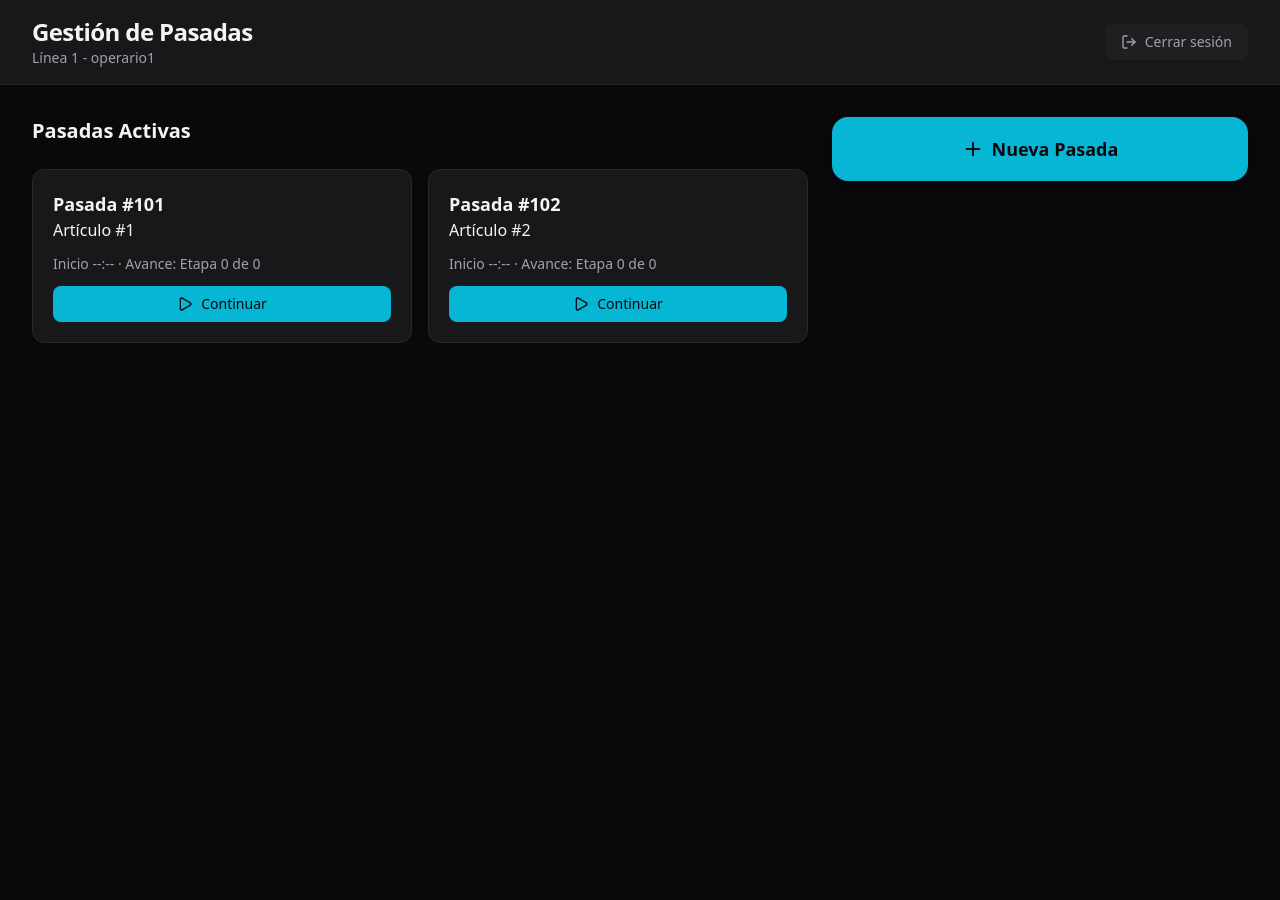
it: GestionPasadasPage › muestra el error 422 del backend en el cuadro de error existente del modal
Click the button "Nueva Pasada" at (1040, 149), box x1=832 y1=117 x2=1248 y2=181
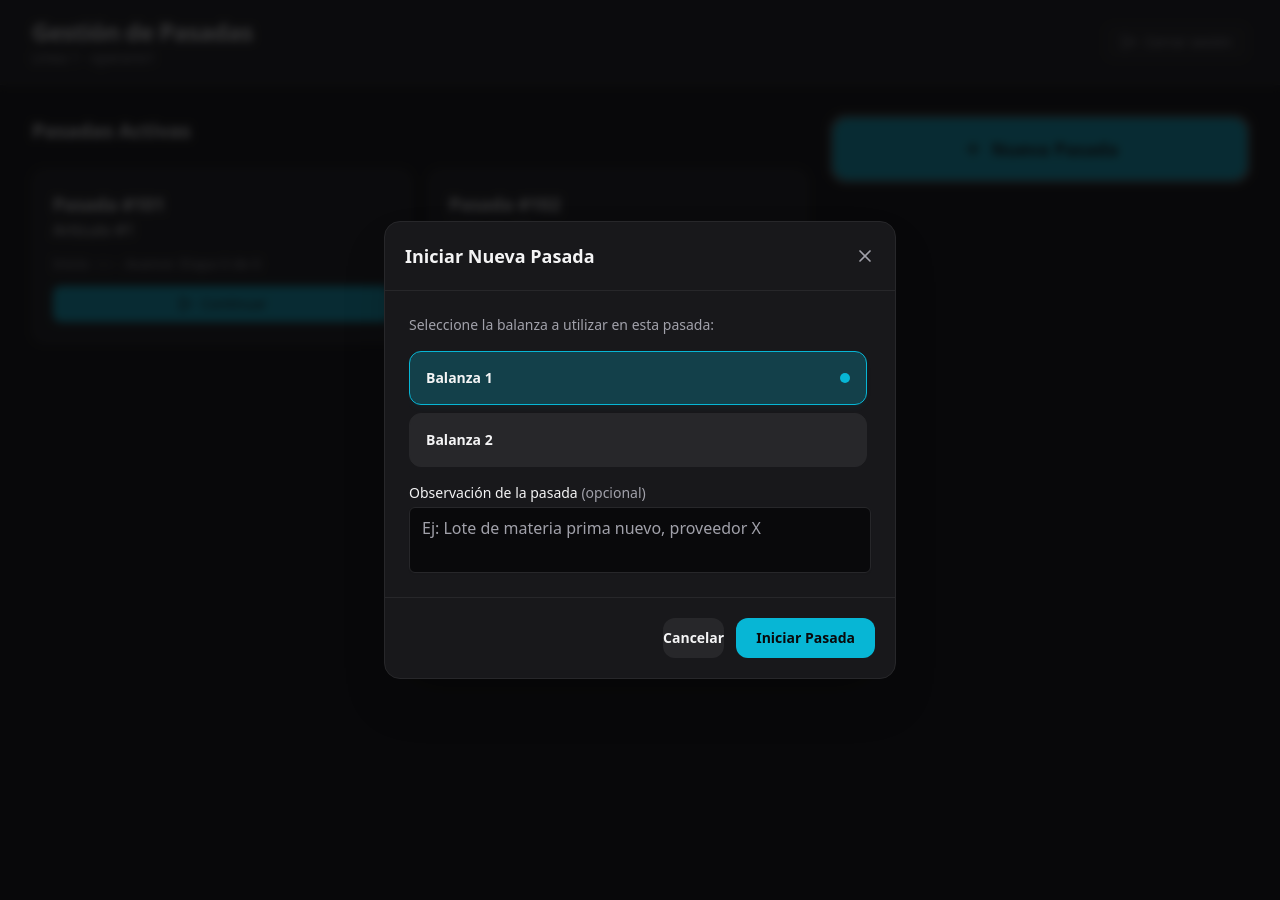
Now the heading "Iniciar Nueva Pasada" is shown, box x1=405 y1=242 x2=595 y2=270
Click the button "Iniciar Pasada" at (806, 638), box x1=736 y1=618 x2=875 y2=658
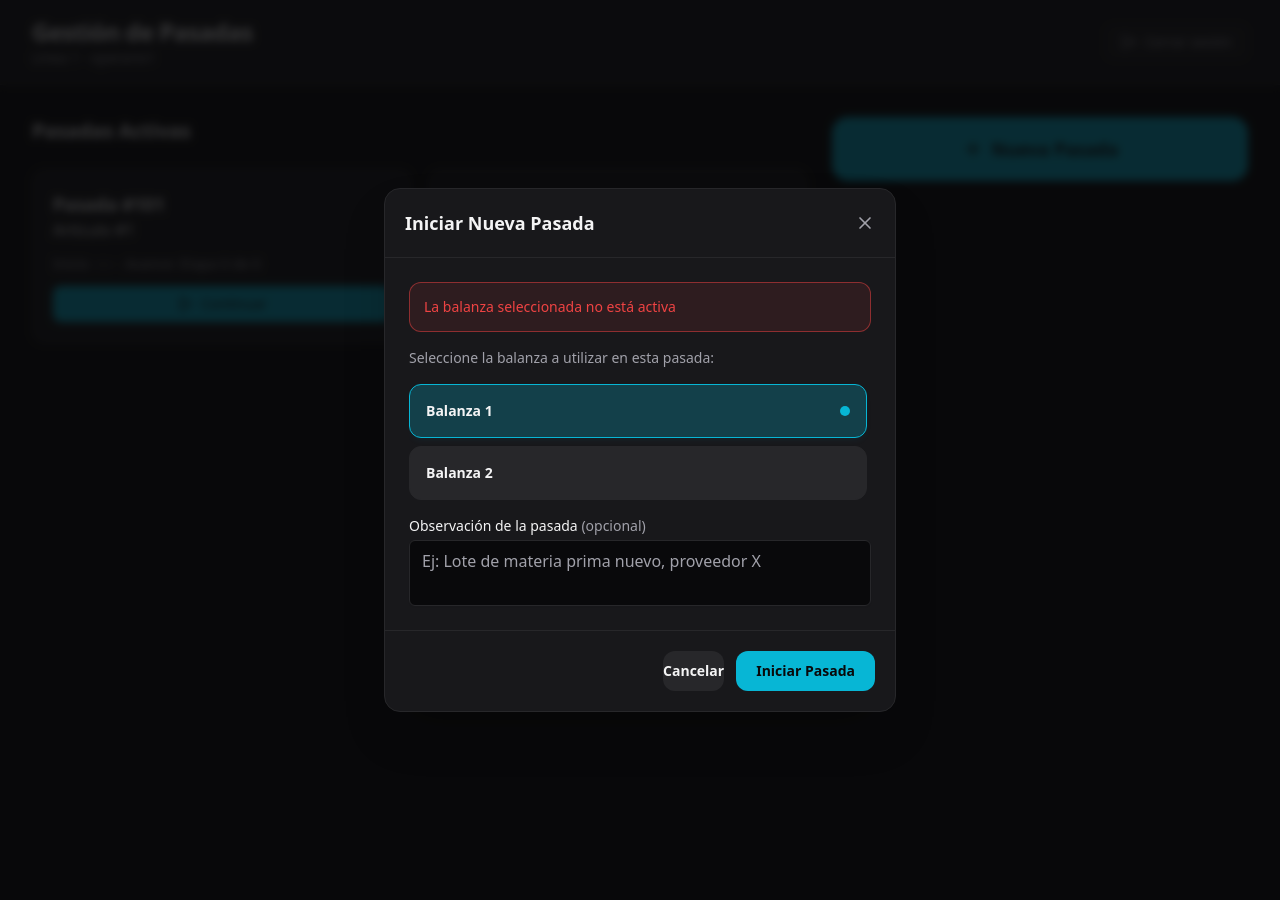
Now the text "La balanza seleccionada no está activa" is shown, box x1=409 y1=282 x2=871 y2=332
